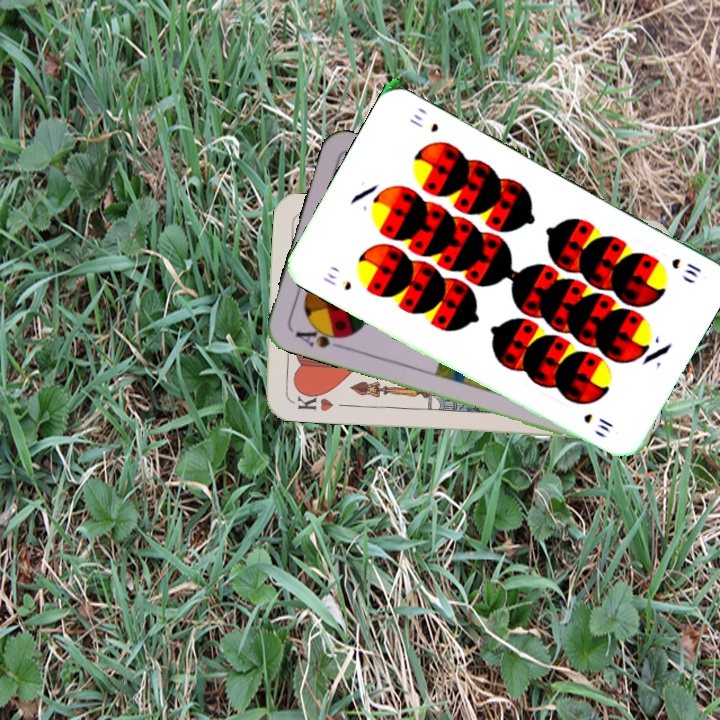HK: (285, 386, 336, 414)
S10: (667, 253, 704, 280), (318, 268, 354, 294)
SA: (291, 322, 350, 351)
